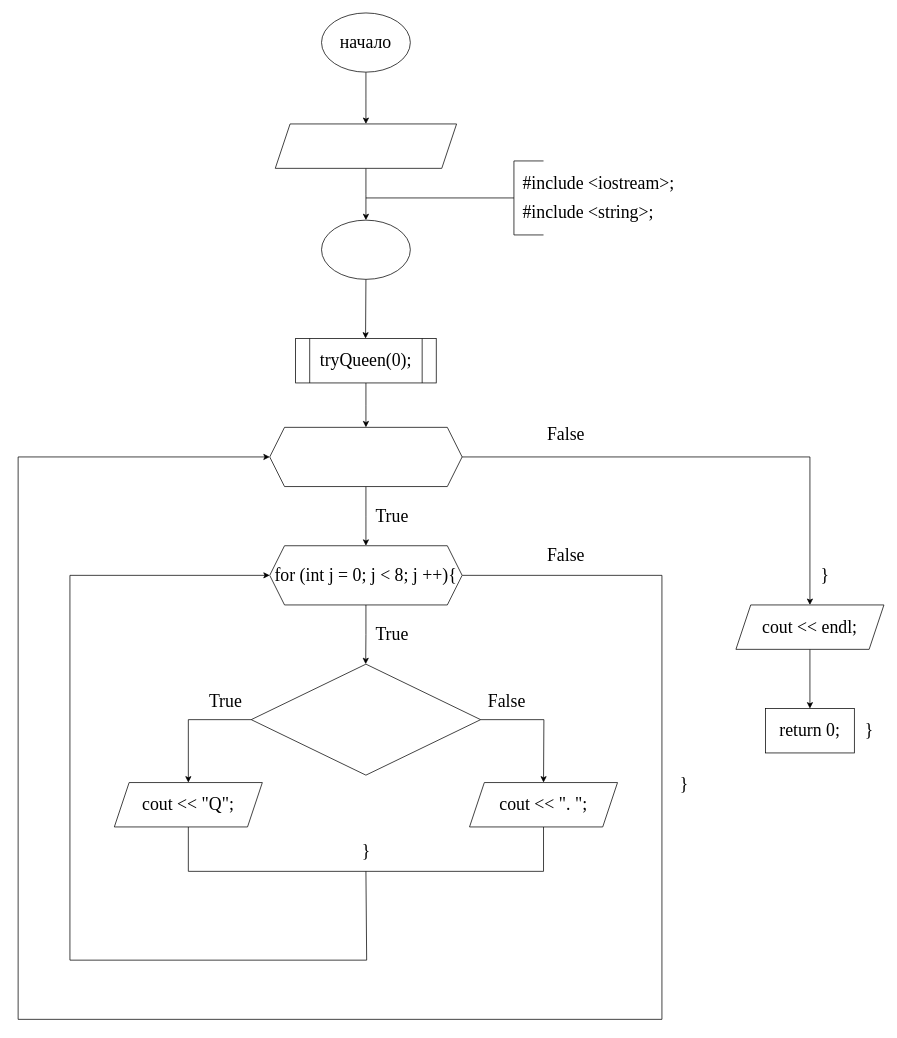
The diagram is 897 pixels wide and 1038 high, and some of its shapes have lost their labels. Each missing label, with the box of its shape:
for (int i = 0; i < 8; i ++){: (269, 427, 462, 487)
if (board[i][j] == -1){: (250, 663, 481, 775)
int main(){: (321, 219, 410, 279)
using namespace std;: (275, 123, 457, 168)
